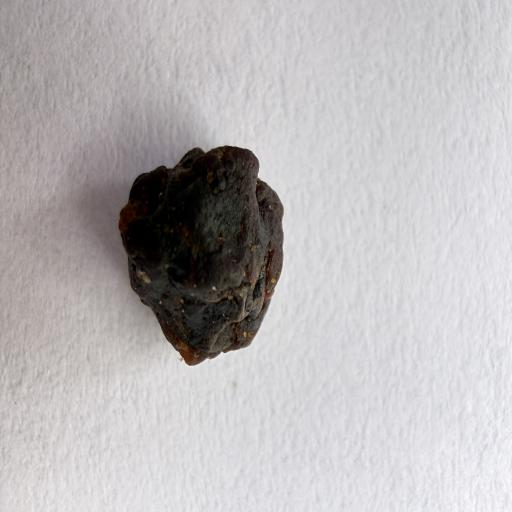Black_pepper: (112, 136, 284, 373)
